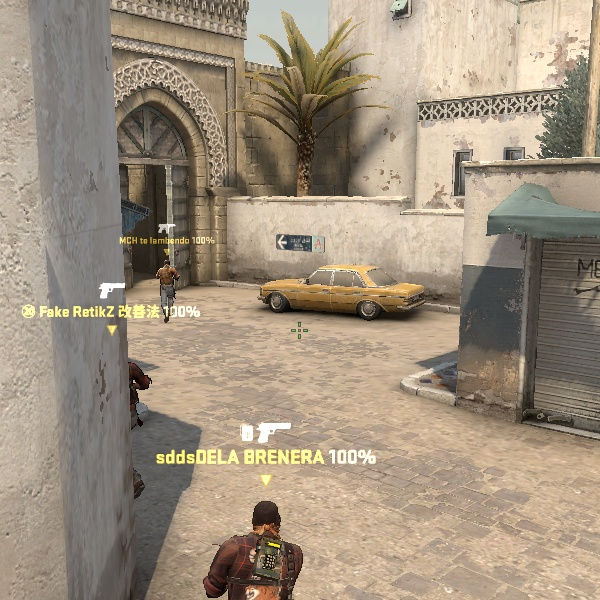t_body: (190, 493, 329, 598)
t_head: (236, 495, 293, 556)
